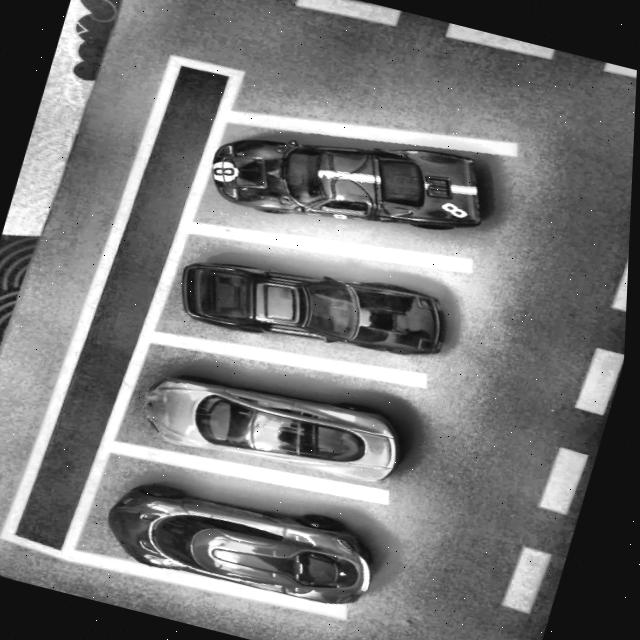car: (202, 98, 503, 264), (99, 465, 393, 619), (171, 233, 462, 381), (137, 354, 419, 499)
